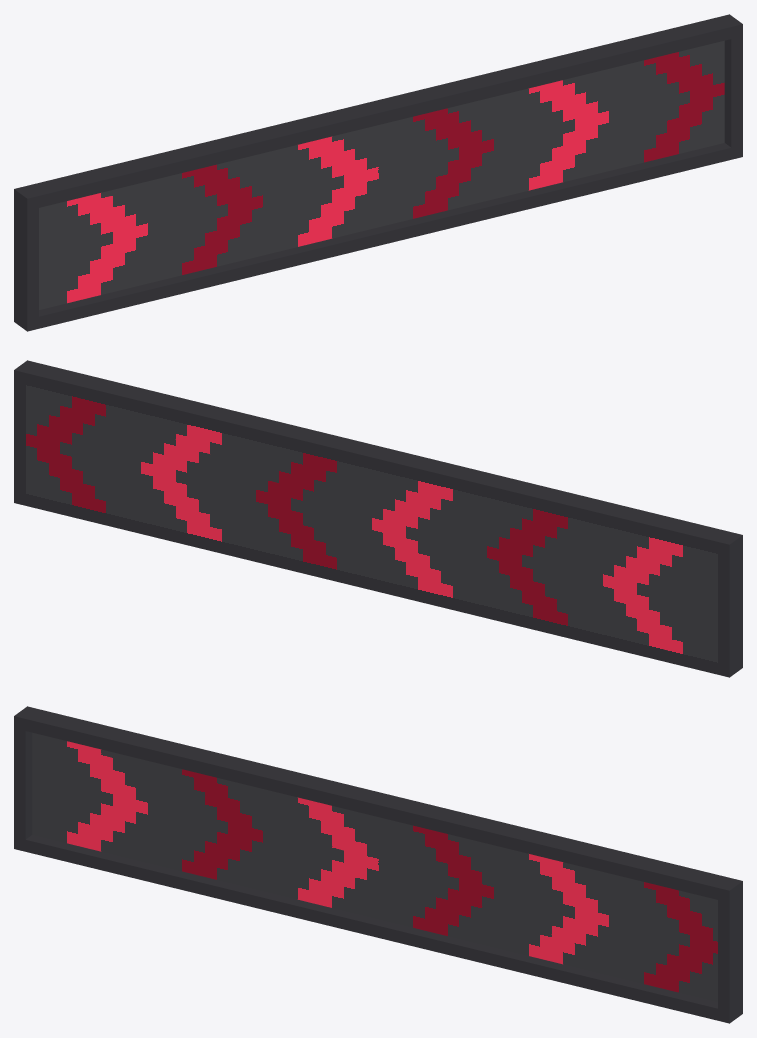
The model's file is 指示灯1.gltf.
3 views of the same model, one above another, from view 1: azimuth 30°, elevation 25°; view 2: azimuth 150°, elevation 25°; view 3: azimuth 330°, elevation 25° (orthographic).
Parts seen in each view (by area): view 1: Group; view 2: Group; view 3: Group.
Boxes of the visible parts, x1,y1,x2,y2 form: Group: [14, 14, 742, 331]; Group: [14, 360, 742, 677]; Group: [14, 706, 742, 1023].
Bounding box in the file's own units: 62 × 11 × 2.
Materials: 1 (1 with a texture image).
